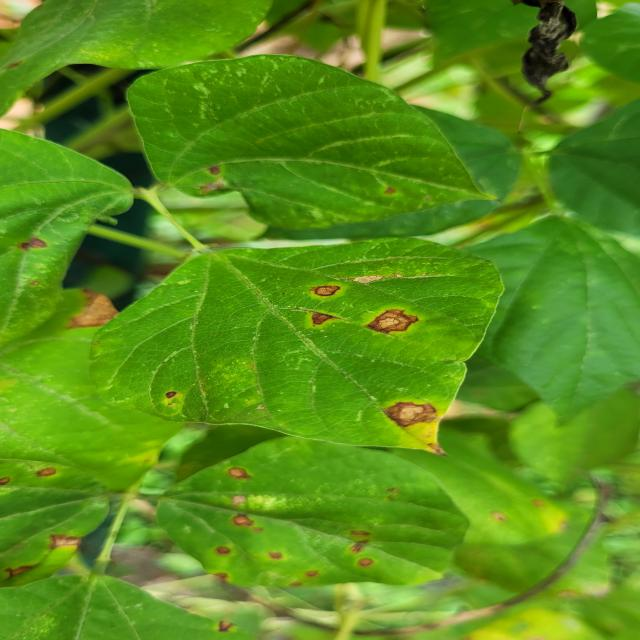Dolicos bean_cercospora leaf spot: (88, 243, 510, 456), (125, 52, 490, 230), (0, 307, 210, 575), (173, 437, 465, 595)
Dolicos bean_healthy: (452, 215, 640, 435)
